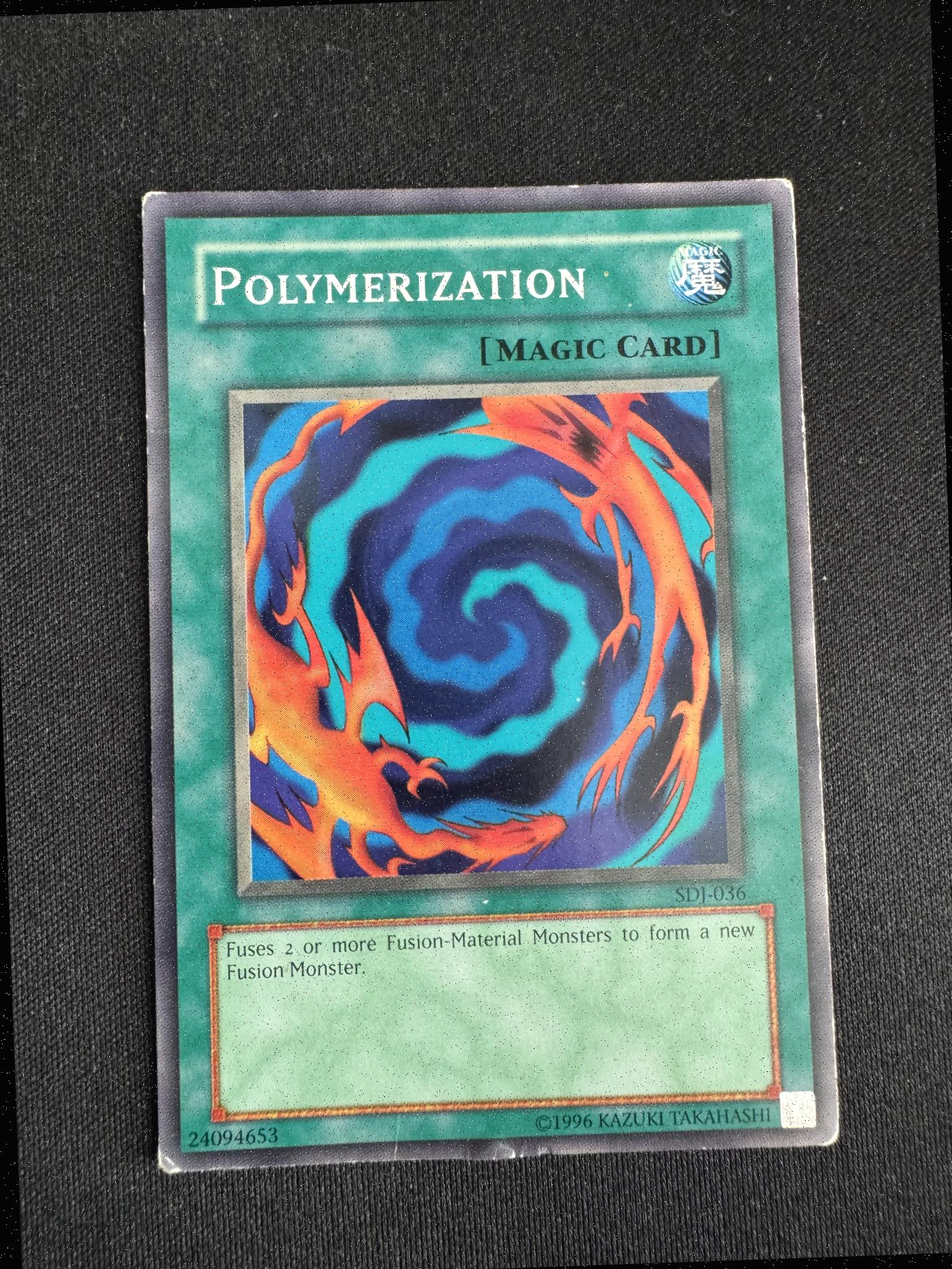card-2UtV: (141, 178, 839, 1174)
